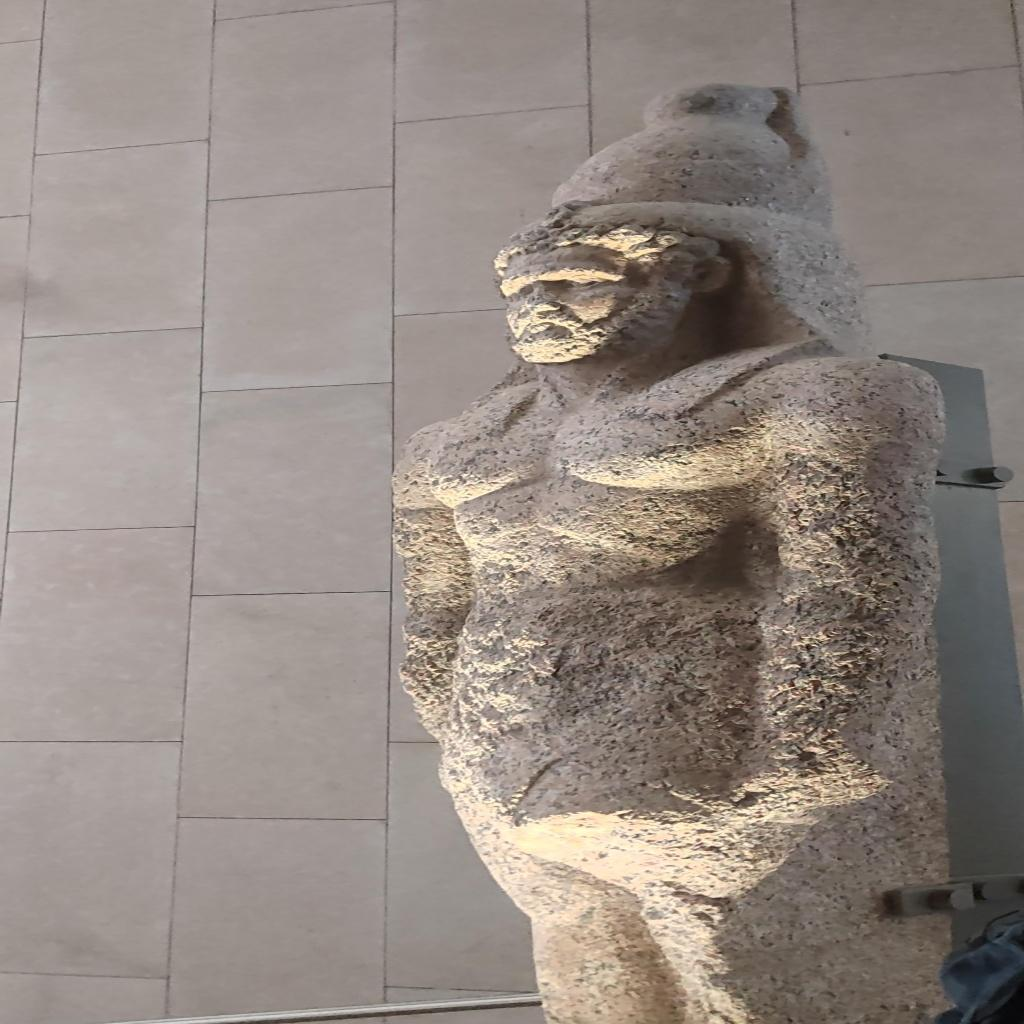Statue of Carcala: (388, 80, 972, 1022)
